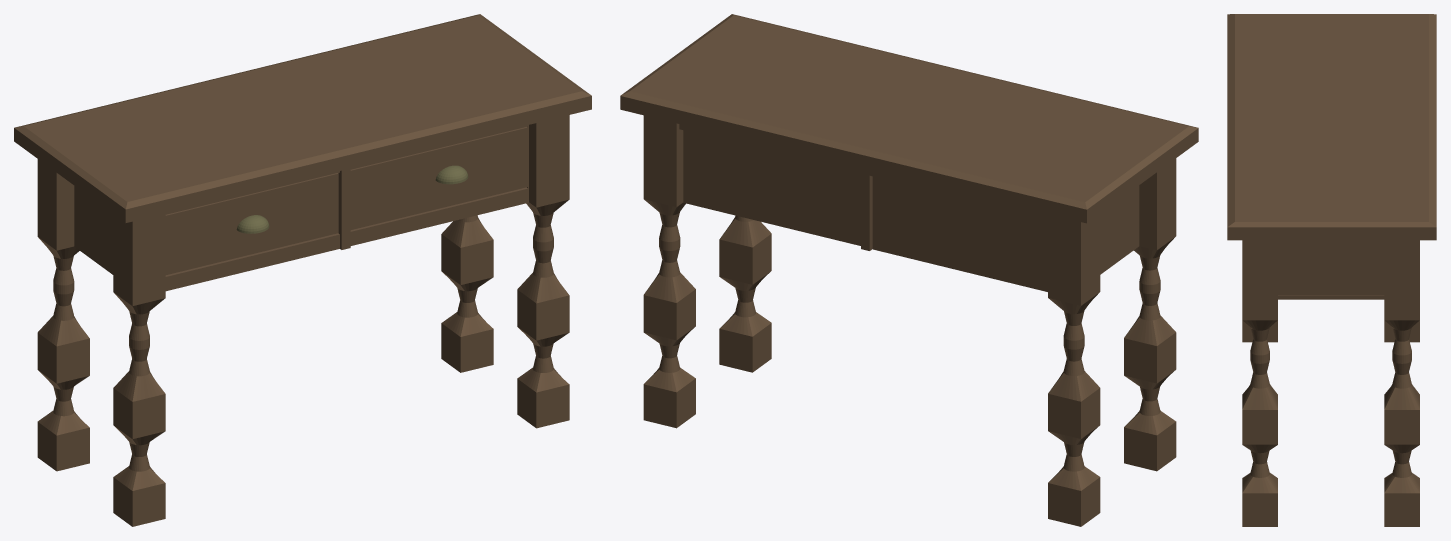
Rendered from dressing-table-fbx.fbx.
The picture shows the model from 3 angles, left to right: view 1: azimuth 30°, elevation 25°; view 2: azimuth 150°, elevation 25°; view 3: azimuth 270°, elevation 25°; orthographic projection. The views are drawn at different scales.
Visible parts, largest first — view 1: body, drawer-right, drawer-left; view 2: body; view 3: body.
Boxes of the visible parts, bbox=[...] form: body: bbox=[14, 14, 591, 526]; drawer-right: bbox=[350, 127, 527, 229]; drawer-left: bbox=[165, 173, 338, 274]; body: bbox=[620, 14, 1198, 526]; body: bbox=[1227, 14, 1436, 526].
Size of what is drawn, in the model's own units: 770 by 521 by 320.
